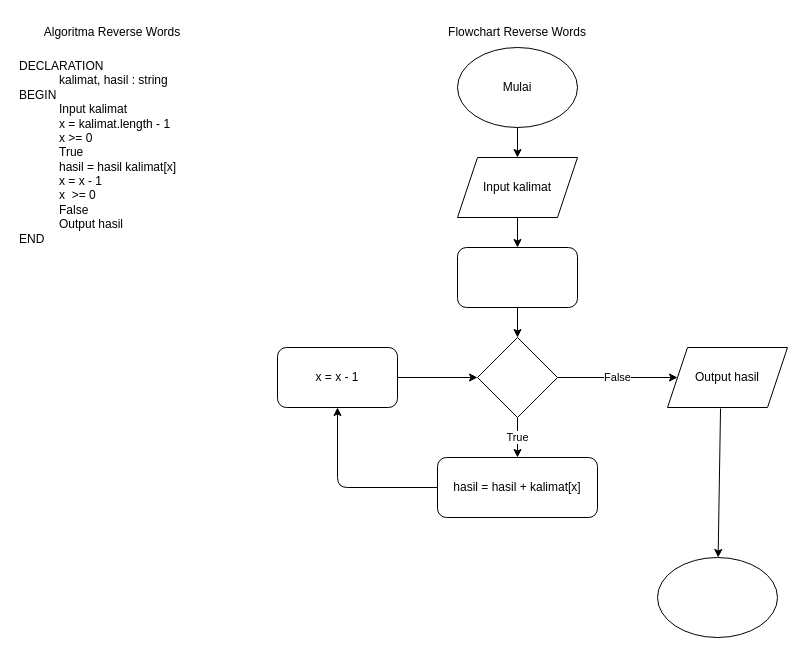
The diagram is 805 pixels wide and 655 high, and some of its shapes have lost their labels. Here are the shapes that lost their labels. From the top down, the centre of each, then its label:
At [517,277]: "x = kalimat.length - 1".
At [517,377]: "x >= 0".
At [717,597]: "selesai".
